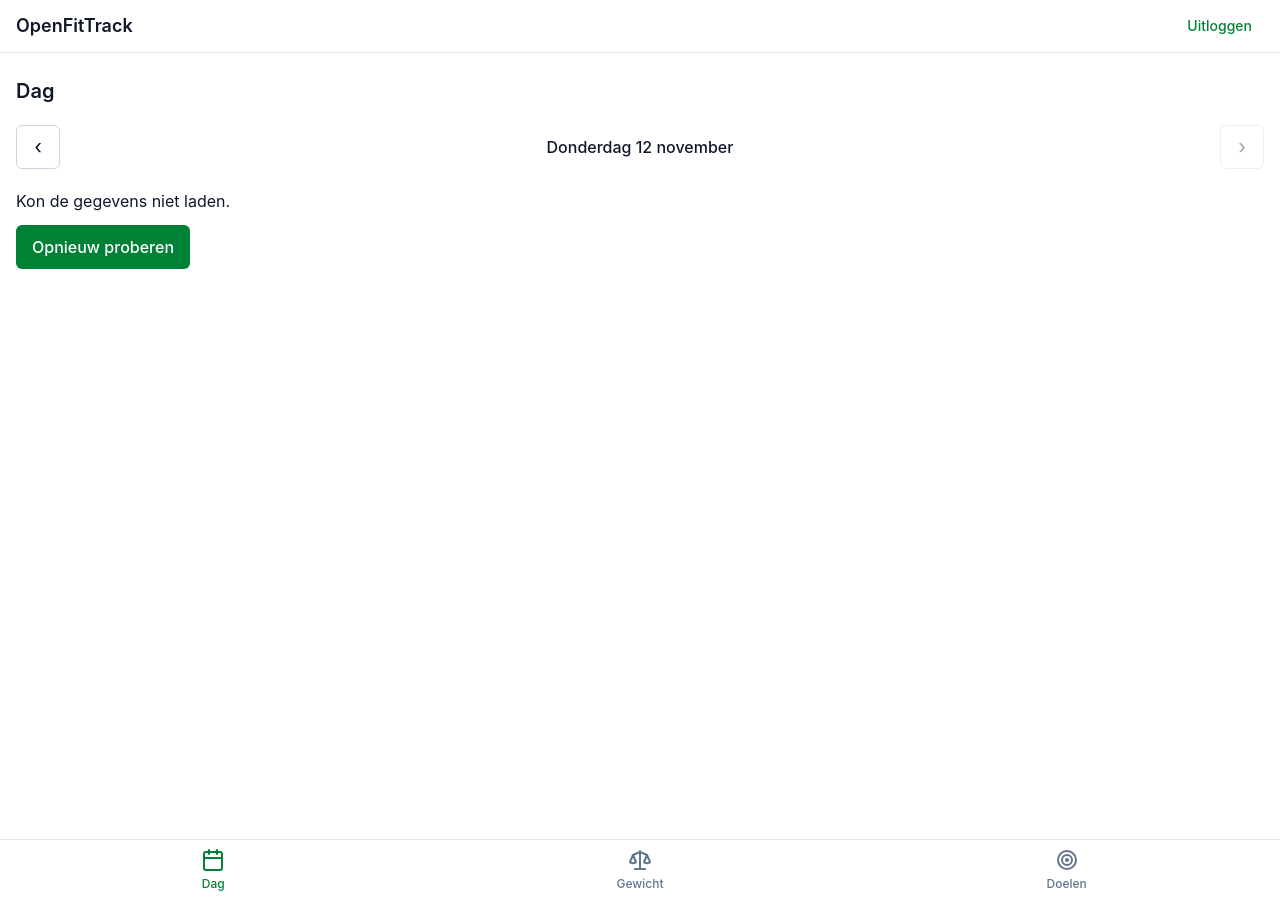
Test: when loading fails › offers to try again
The image size is (1280, 900).
Expected: the message shows "Kon de gegevens niet laden.", [16,191,230,211]
Step 1. Click the button "Opnieuw proberen" → (103, 247), box [16,225,190,269]
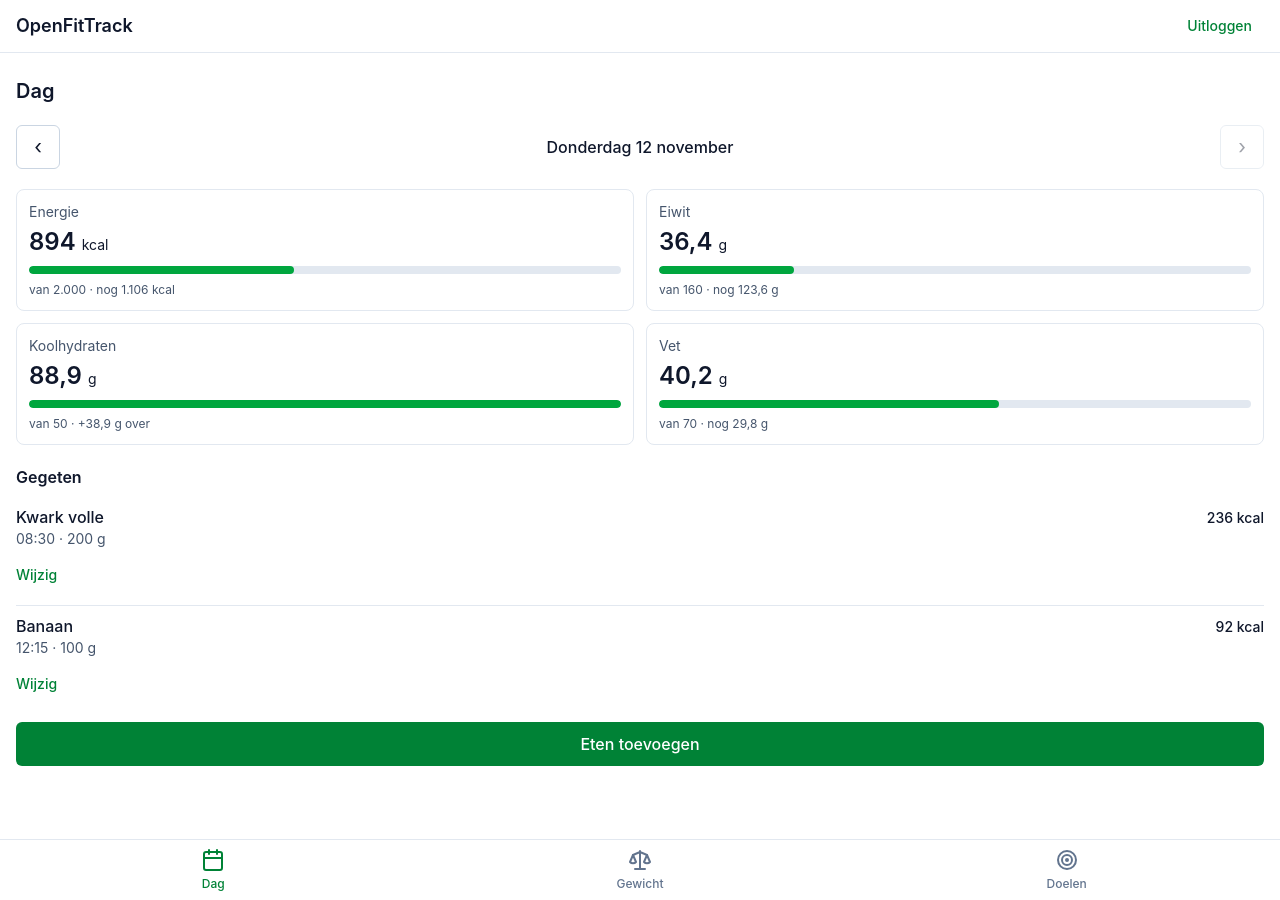
Expected: the text "Kwark volle" is shown, [16,505,106,529]
